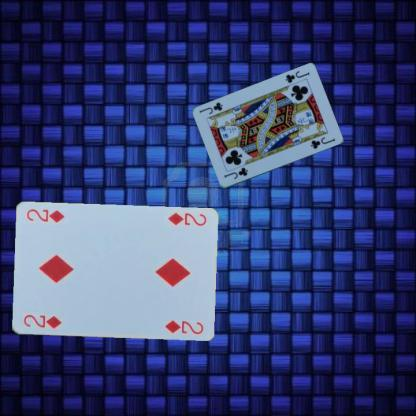2d: (21, 312, 62, 330), (166, 210, 208, 227)
Jc: (282, 69, 311, 84), (221, 165, 249, 180)
